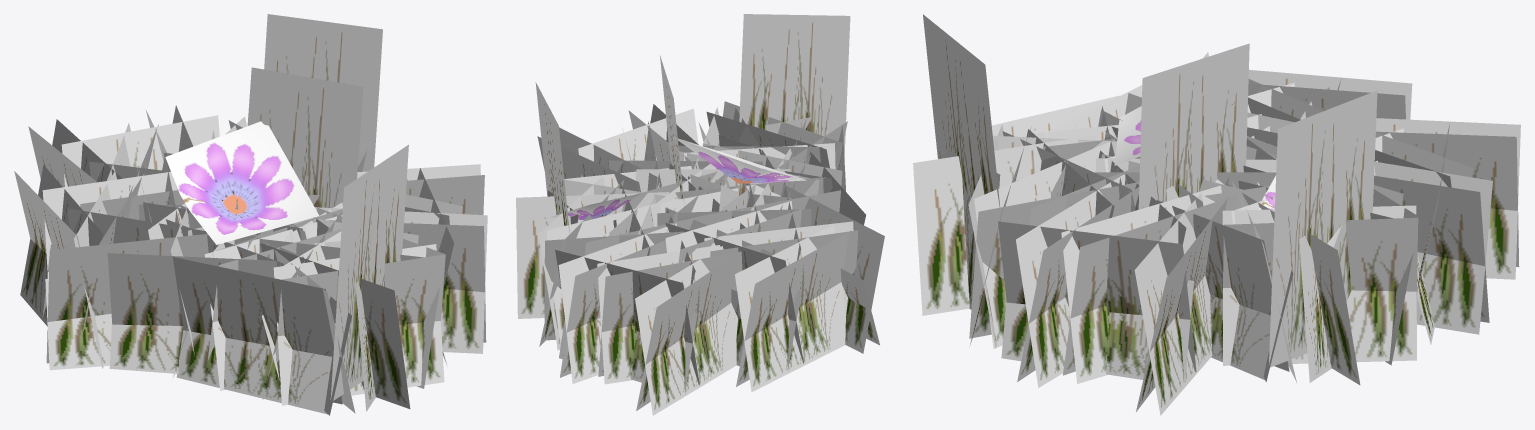
The model's file is Pink_flower.FBX.
3 views of the same model, side by side, from view 1: azimuth 30°, elevation 25°; view 2: azimuth 150°, elevation 25°; view 3: azimuth 270°, elevation 25° (orthographic). The views are drawn at different scales.
Visible parts, largest first — view 1: Object005; view 2: Object005; view 3: Object005.
Boxes of the visible parts, <box> form: Object005: <box>14,14,487,415</box>; Object005: <box>516,14,884,415</box>; Object005: <box>913,14,1520,415</box>.
Bounding box in the file's own units: 1323 × 806 × 1511.
